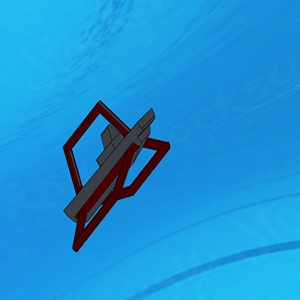submarine: (61, 97, 171, 255)
